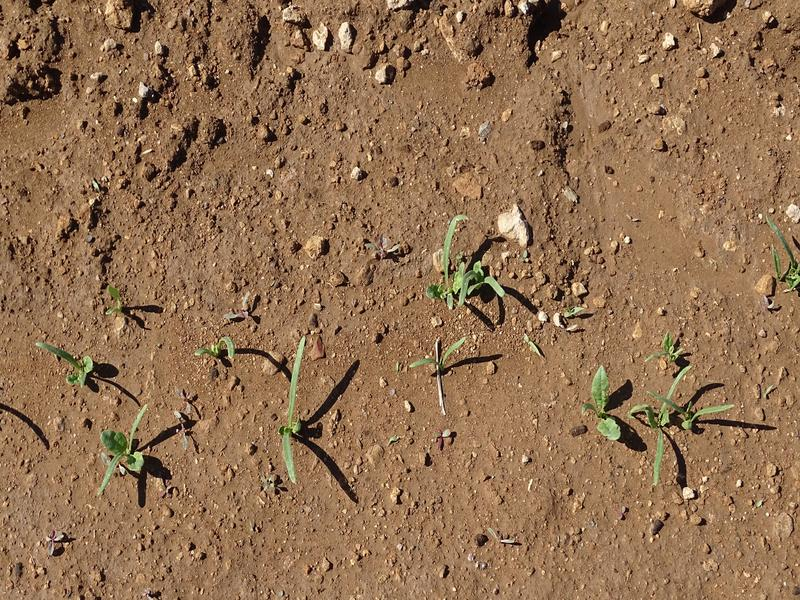Espinaca: (583, 366, 735, 482), (442, 211, 509, 311), (88, 408, 157, 485), (276, 334, 310, 480), (38, 329, 105, 394), (417, 332, 486, 380), (768, 214, 800, 285)
